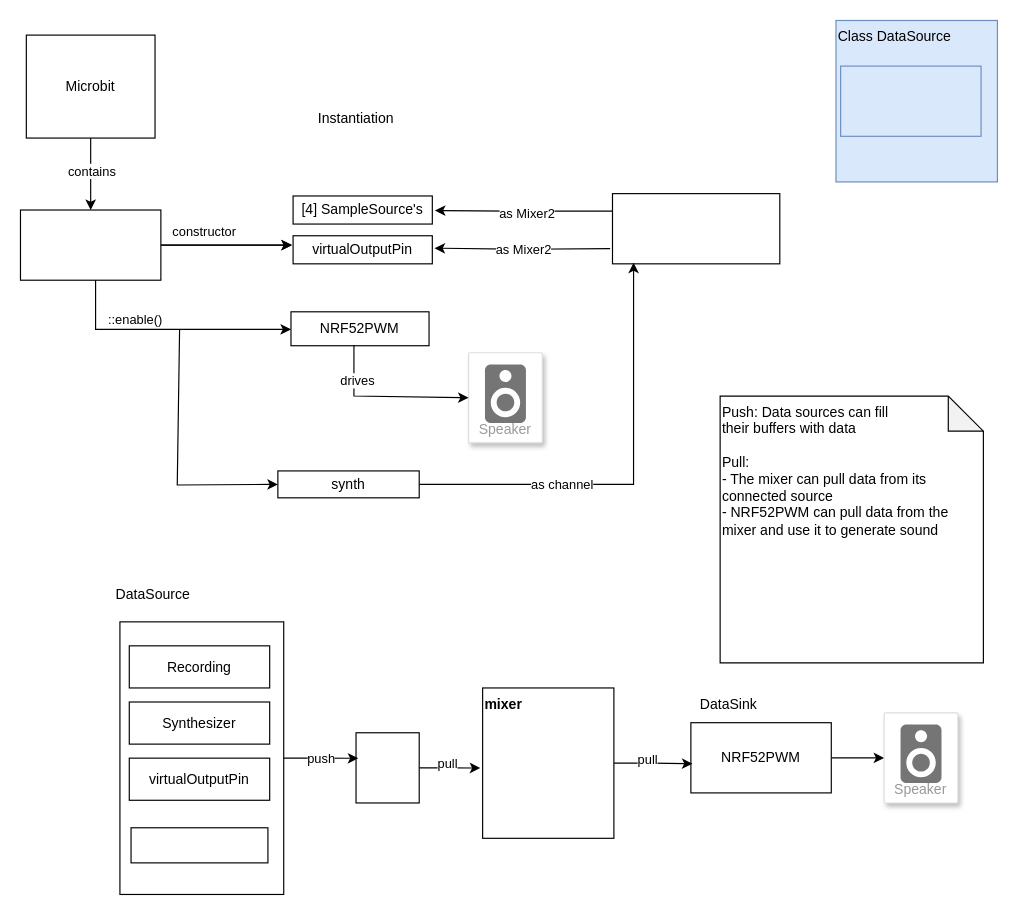
Image size: 1018x915. Some labels were removed from this diagram. Each missing label, with the centre of its shape:
"buffers" belongs at (387,767).
"mic/ADC" belongs at (199,845).
"MicrobitAudio" belongs at (90,244).
"MicrobitAudio::mixer" belongs at (695,228).
"mixer: class Mixer2" belongs at (910,100).
